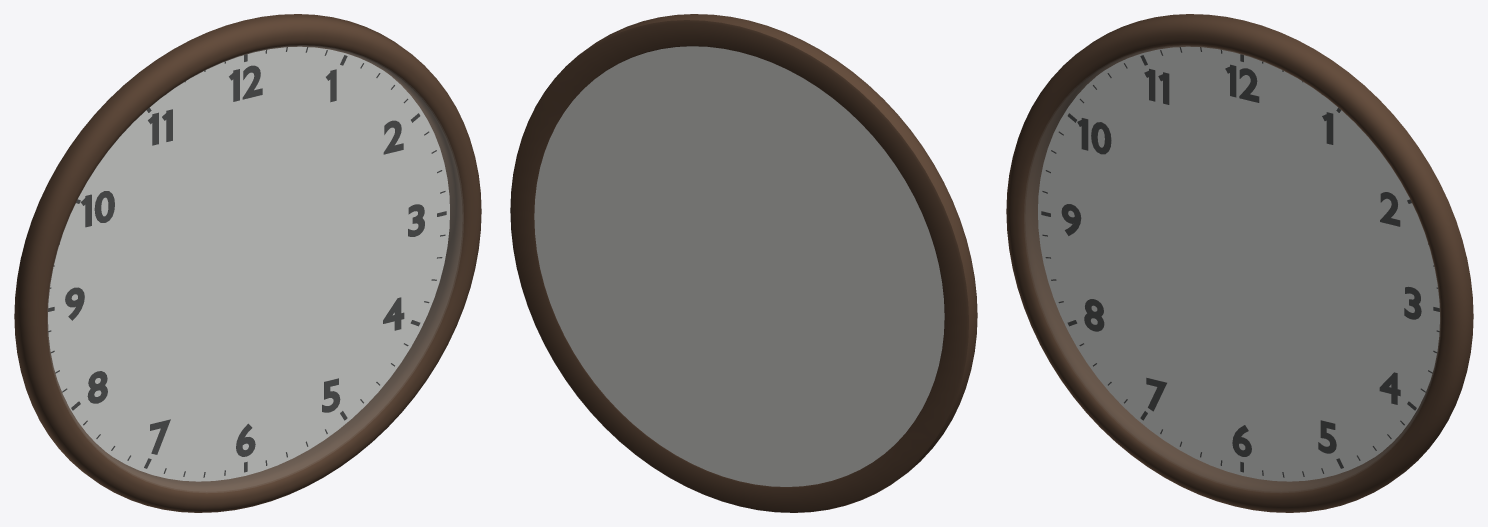
The model's file is SM_WallClock.fbx.
3 views of the same model, side by side, from view 1: azimuth 30°, elevation 25°; view 2: azimuth 150°, elevation 25°; view 3: azimuth 330°, elevation 25° (orthographic).
Visible parts, largest first — view 1: SM_WallClock; view 2: SM_WallClock; view 3: SM_WallClock.
Part boxes in pixels (x1=…): SM_WallClock: x1=14, y1=14, x2=481, y2=512; SM_WallClock: x1=510, y1=14, x2=977, y2=512; SM_WallClock: x1=1006, y1=14, x2=1473, y2=512.
Bounding box in the file's own units: 36.94 × 36.94 × 1.86.
